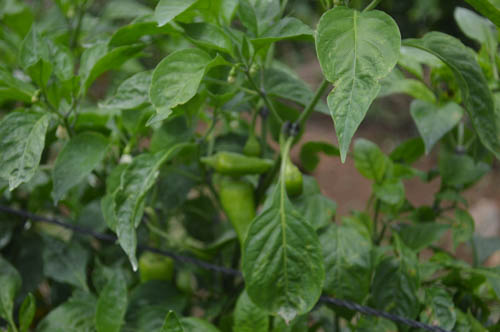ChiliPepper: (222, 176, 260, 244), (212, 147, 274, 180), (141, 251, 176, 289), (281, 165, 302, 193)
